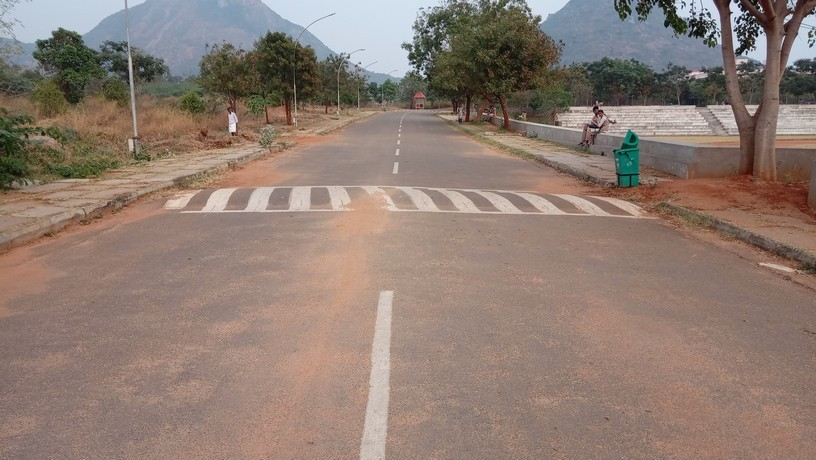bump: (160, 178, 658, 217)
